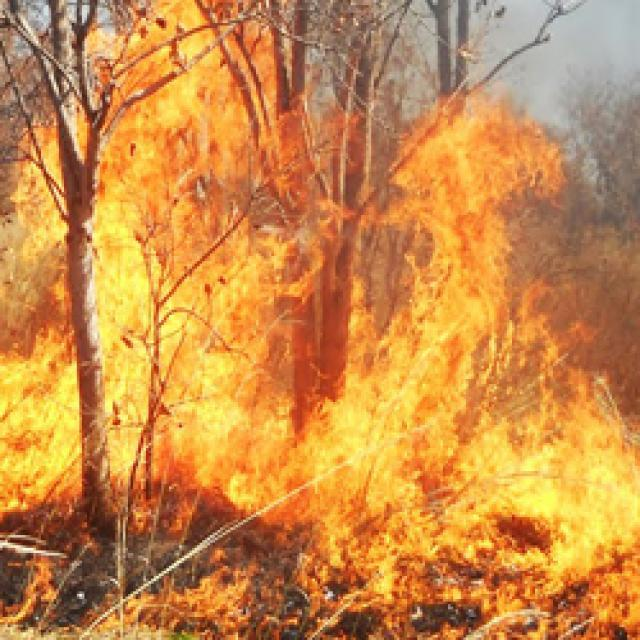Fire: (0, 0, 640, 515), (297, 514, 640, 638), (1, 539, 252, 637), (257, 564, 300, 628), (138, 495, 196, 531), (269, 524, 294, 546)
